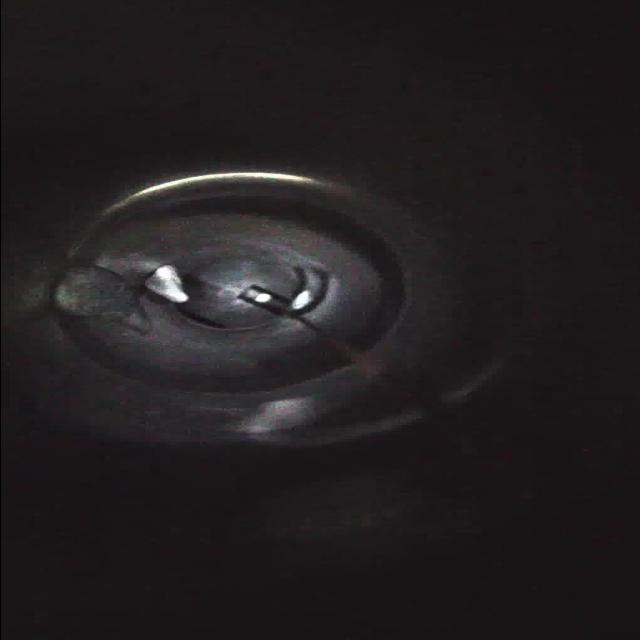impurity: (46, 263, 140, 323), (141, 264, 193, 306)
